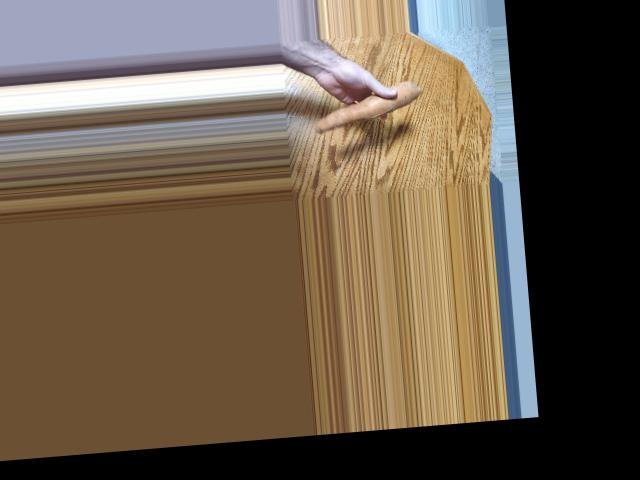sweet_potato: (306, 86, 421, 125)
